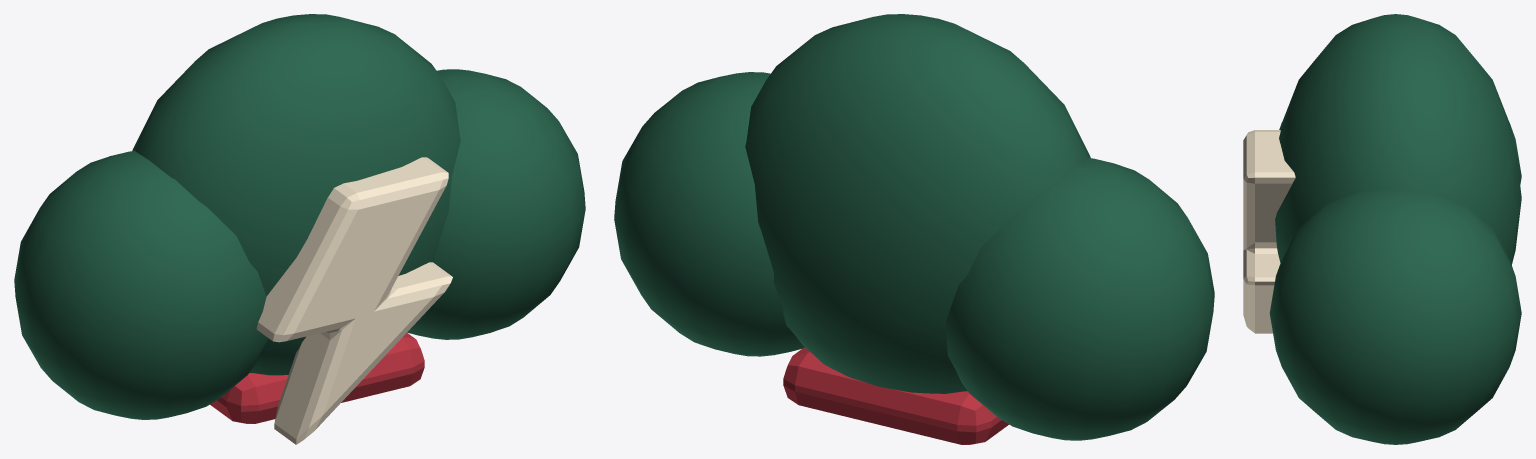
The model's file is ACC_TH_THUNDERSTORM_Primary.fbx.
The picture shows the model from 3 angles, left to right: view 1: azimuth 30°, elevation 25°; view 2: azimuth 150°, elevation 25°; view 3: azimuth 270°, elevation 25°; orthographic projection. The views are drawn at different scales.
Visible parts, largest first — view 1: ACC_TH_THUNDERSTORM_Primary; view 2: ACC_TH_THUNDERSTORM_Primary; view 3: ACC_TH_THUNDERSTORM_Primary.
Boxes of the visible parts, x1,y1,x2,y2 form: ACC_TH_THUNDERSTORM_Primary: (14,14,585,444); ACC_TH_THUNDERSTORM_Primary: (614,14,1214,444); ACC_TH_THUNDERSTORM_Primary: (1243,14,1521,444).
Size of the model in its own units: 91 by 58 by 42.
